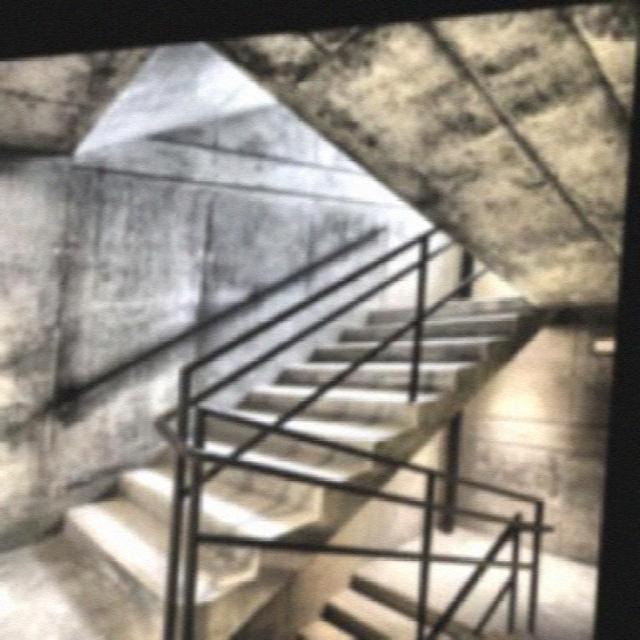stair: (42, 202, 544, 630)
